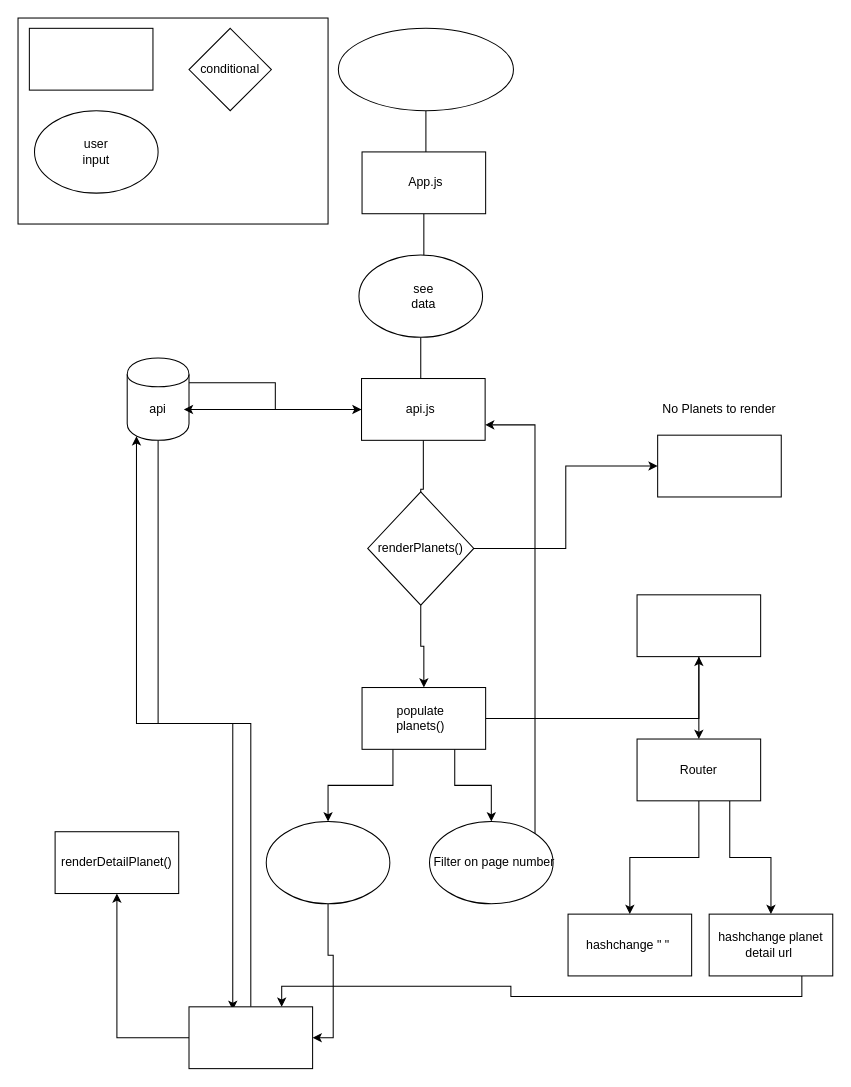
Some shapes in this 851 by 1087 pixel diagram are drawn without their labels. Here are the shapes that lost their labels. From the top down, the centre of each, then its label:
the point at 90,58: Application
the point at 425,69: Pageload
the point at 719,465: noPlanets
the point at 698,625: Hashchange
the point at 327,862: Filter on climate
the point at 250,1037: getAllData()
